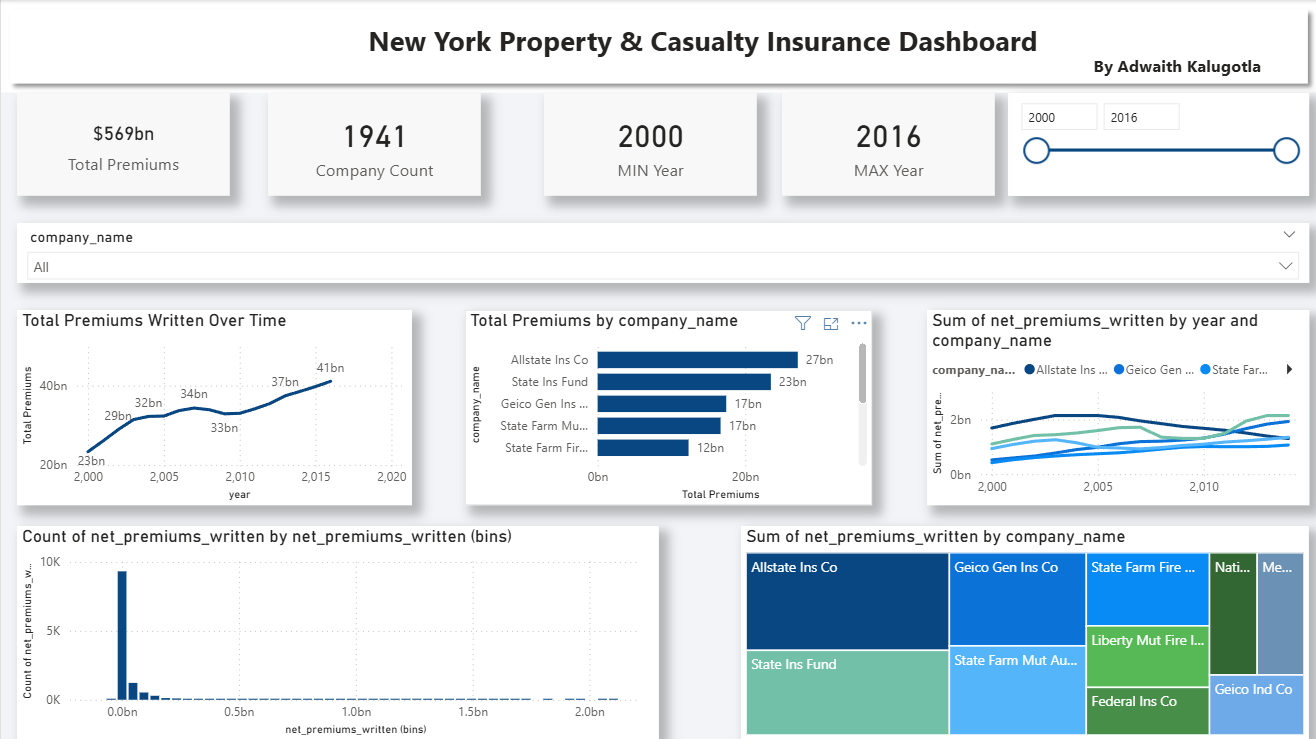

This screenshot's page, from the dashboard's own definition file:
{"tool":"powerbi","page":{"name":"Dashboard","canvas":[1280,720],"ordinal":0},"visuals":[{"type":"card","fields":{"Values":["Measures Table.Total Premiums"]},"box":[15.6,90.5,207.4,100],"z":0,"group":"g1"},{"type":"lineChart","title":"Total Premiums Written Over Time","fields":{"Y":["Measures Table.Total Premiums"],"Category":["NY premiums.year"]},"box":[15.6,301.5,384.2,189.7],"z":0},{"type":"card","fields":{"Values":["Measures Table.Company Count"]},"box":[259.7,90.5,207.4,100],"z":1000,"group":"g1"},{"type":"clusteredBarChart","fields":{"Category":["NY premiums.company_name"],"Y":["Measures Table.Total Premiums"]},"box":[451.3,301.5,395.9,189.7],"z":1000},{"type":"card","fields":{"Values":["Measures Table.MIN Year"]},"box":[528.1,90.5,207.4,100],"z":2000,"group":"g1"},{"type":"lineChart","fields":{"Series":["NY premiums.company_name"],"Category":["NY premiums.year"],"Y":["Sum(NY premiums.net_premiums_written)"]},"box":[900.7,301.5,371.6,189.7],"z":2000},{"type":"group","id":"g1","title":"Group 1","box":[15.6,90.5,951.2,100.2],"z":3000},{"type":"card","fields":{"Values":["Measures Table.MAX Year"]},"box":[760,90.5,207.4,100],"z":3000,"group":"g1"},{"type":"columnChart","fields":{"Category":["NY premiums.net_premiums_written (bins)"],"Y":["CountNonNull(NY premiums.net_premiums_written)"]},"box":[16,512,624,208],"z":4000},{"type":"treemap","fields":{"Group":["NY premiums.company_name"],"Values":["Sum(NY premiums.net_premiums_written)"]},"box":[719.8,511.6,552.5,208.1],"z":5000},{"type":"shape","box":[0,0,1280,90],"z":6000},{"type":"textbox","box":[352,16,800,64],"z":7000},{"type":"textbox","box":[1024,48,240,32],"z":8000},{"type":"slicer","fields":{"Values":["NY premiums.company_name"]},"box":[15.6,216.9,1256.7,58.4],"z":9000},{"type":"slicer","fields":{"Values":["NY premiums.year"]},"box":[979.5,90.5,292.8,100.2],"z":10000}]}

Visuals, with their boxes in screenshot pixels (x1, y1, x2, y2), scaled from the page's 1280x720 canvas onto the 1316x739 screenshot:
card - Measures Table.Total Premiums: x1=16 y1=93 x2=229 y2=196
"Total Premiums Written Over Time" lineChart: x1=16 y1=309 x2=411 y2=504
card - Measures Table.Company Count: x1=267 y1=93 x2=480 y2=196
clusteredBarChart - NY premiums.company_name x Measures Table.Total Premiums: x1=464 y1=309 x2=871 y2=504
card - Measures Table.MIN Year: x1=543 y1=93 x2=756 y2=196
lineChart - NY premiums.company_name x NY premiums.year: x1=926 y1=309 x2=1308 y2=504
"Group 1" group: x1=16 y1=93 x2=994 y2=196
card - Measures Table.MAX Year: x1=781 y1=93 x2=995 y2=196
columnChart - NY premiums.net_premiums_written (bins) x CountNonNull(NY premiums.net_premiums_written): x1=16 y1=526 x2=658 y2=738
treemap - NY premiums.company_name x Sum(NY premiums.net_premiums_written): x1=740 y1=525 x2=1308 y2=738
shape: x1=0 y1=0 x2=1315 y2=92
textbox: x1=362 y1=16 x2=1184 y2=82
textbox: x1=1053 y1=49 x2=1300 y2=82
slicer - NY premiums.company_name: x1=16 y1=223 x2=1308 y2=283
slicer - NY premiums.year: x1=1007 y1=93 x2=1308 y2=196
